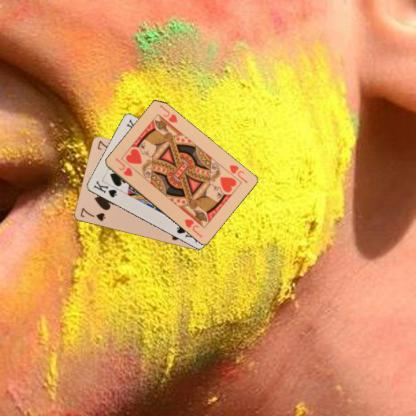7s: (78, 205, 106, 223)
Jh: (226, 162, 249, 184), (112, 156, 134, 178)
Ks: (91, 178, 118, 199)
